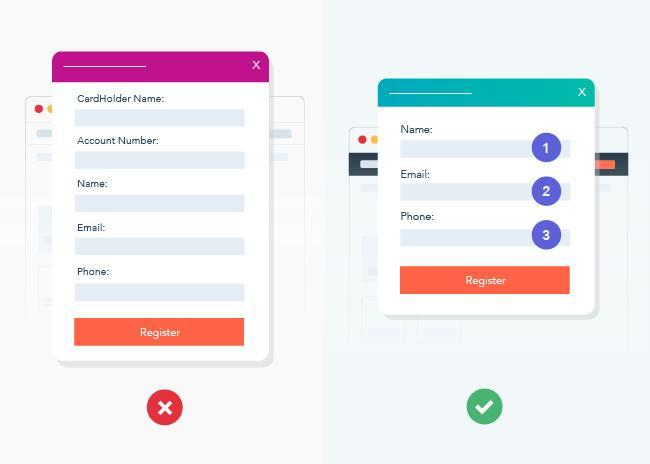button: (399, 266, 573, 296), (74, 318, 246, 348)
input: (76, 282, 247, 304), (74, 237, 247, 258), (74, 108, 246, 128), (75, 151, 246, 171), (76, 194, 246, 214)
label: (78, 94, 165, 106), (77, 136, 160, 147), (400, 211, 436, 224), (400, 168, 432, 182), (78, 266, 111, 279), (78, 222, 106, 235), (400, 126, 435, 136), (78, 179, 109, 190)
